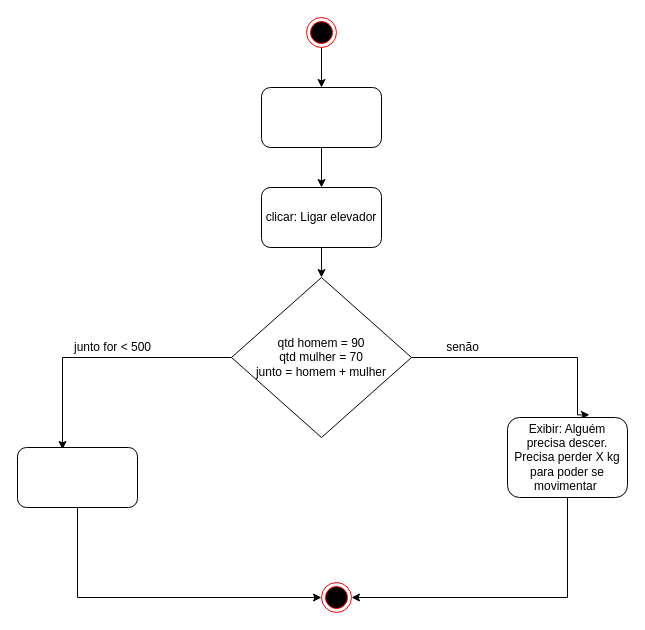
Some shapes in this 645 by 630 pixel diagram are drawn without their labels. Here are the shapes that lost their labels. From the top down, the centre of each, then its label:
At (x=321, y=117): "Escreva: Quantidade de homens e de mulheres".
At (x=77, y=477): "Exibir: Elevador vai se mover, pois está com X kg".
